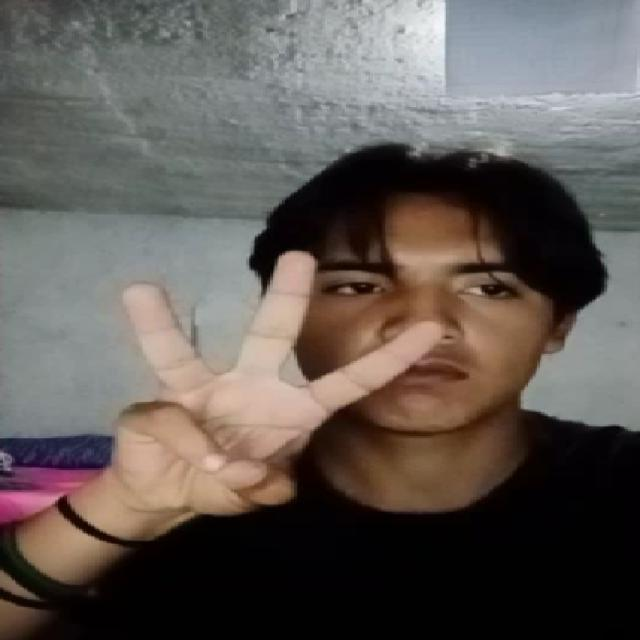W: (73, 238, 461, 525)
